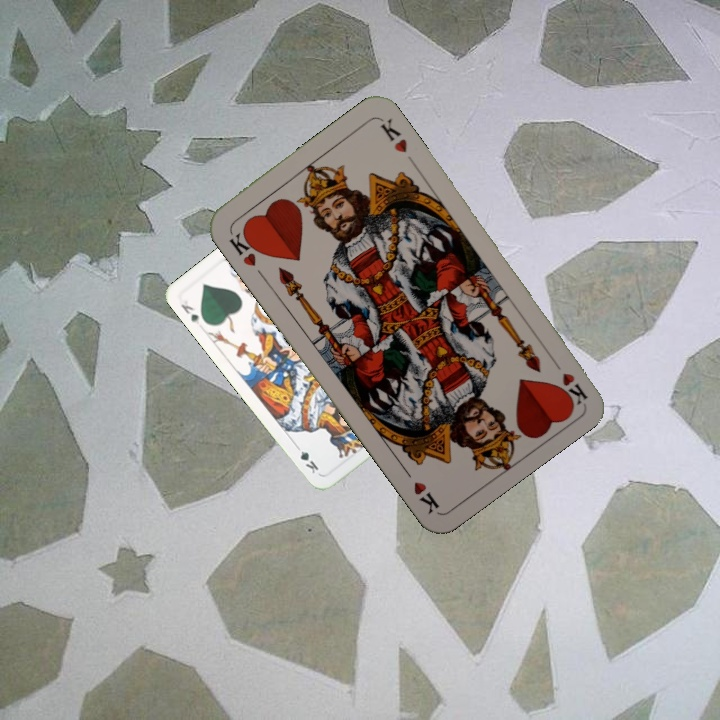GK: (177, 296, 203, 327)
HK: (546, 352, 590, 406), (225, 225, 264, 269)
